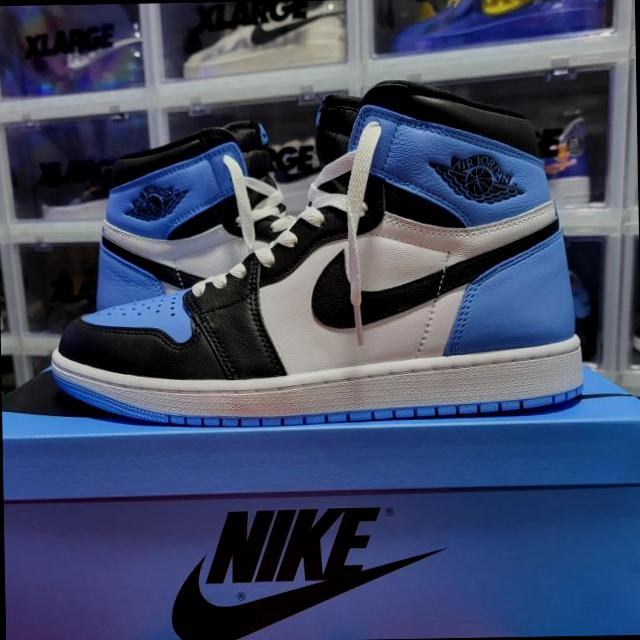nike_original_jordan: (44, 88, 586, 429)
